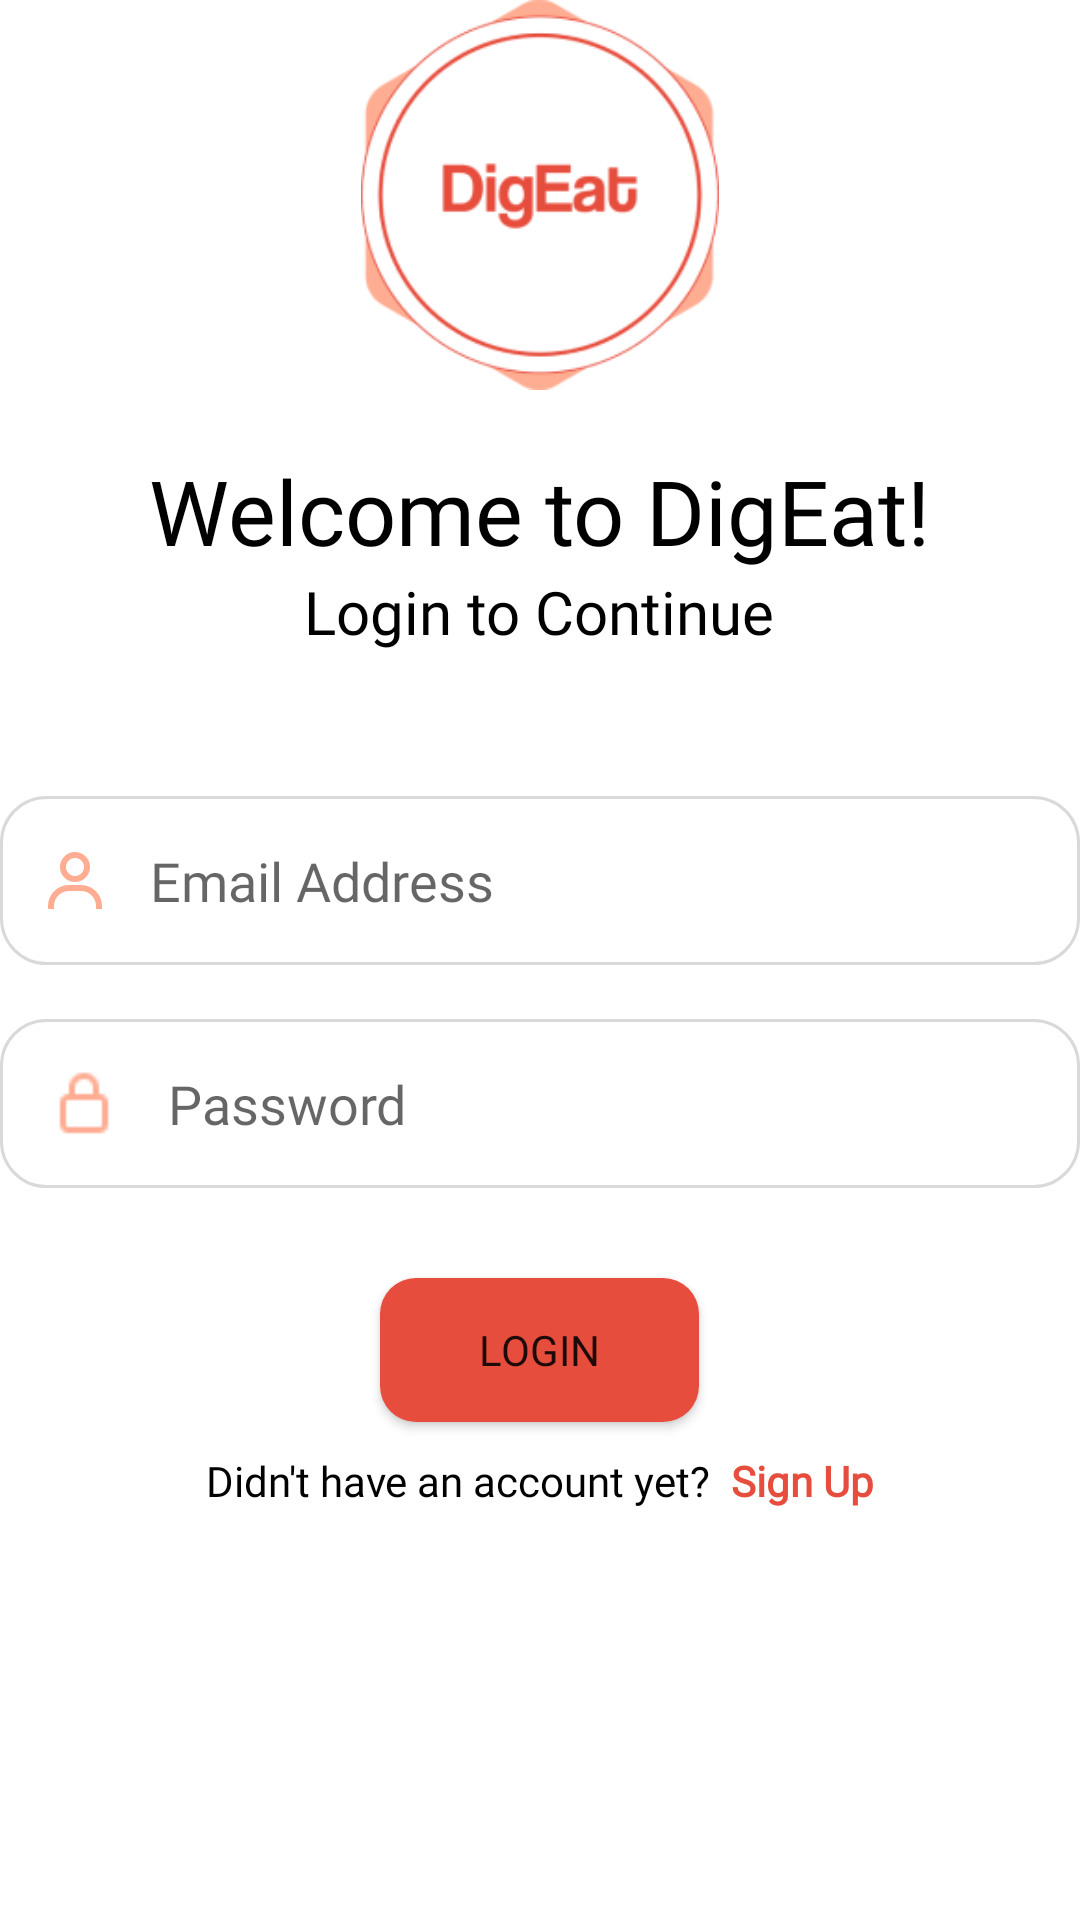

Named icons in this screenshot (1080w x 1920h) and their bounding boxes, (x1, y1, x2, y2):
lock: (59, 1072, 109, 1134)
person: (48, 852, 102, 909)
